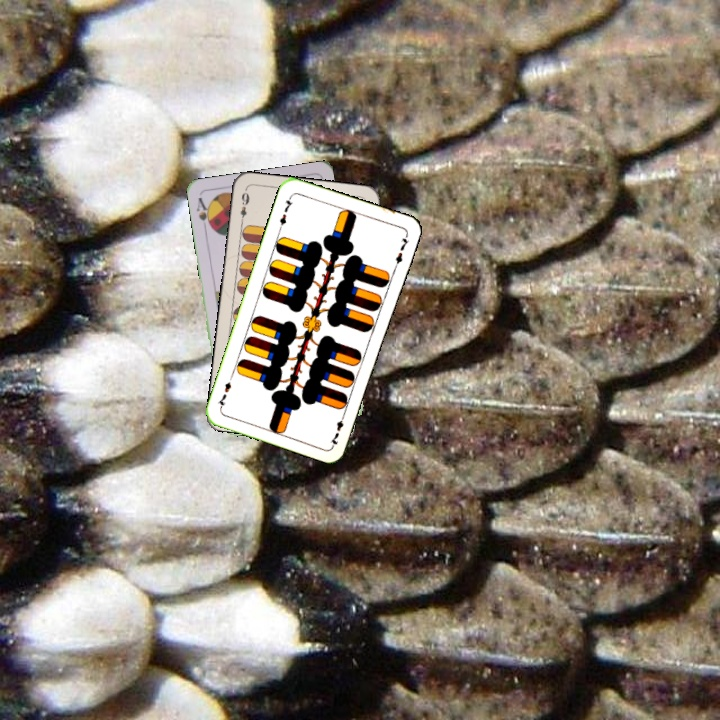E7: (326, 409, 348, 448), (275, 192, 296, 232)
E9: (236, 188, 252, 227)
SA: (192, 193, 215, 234)
